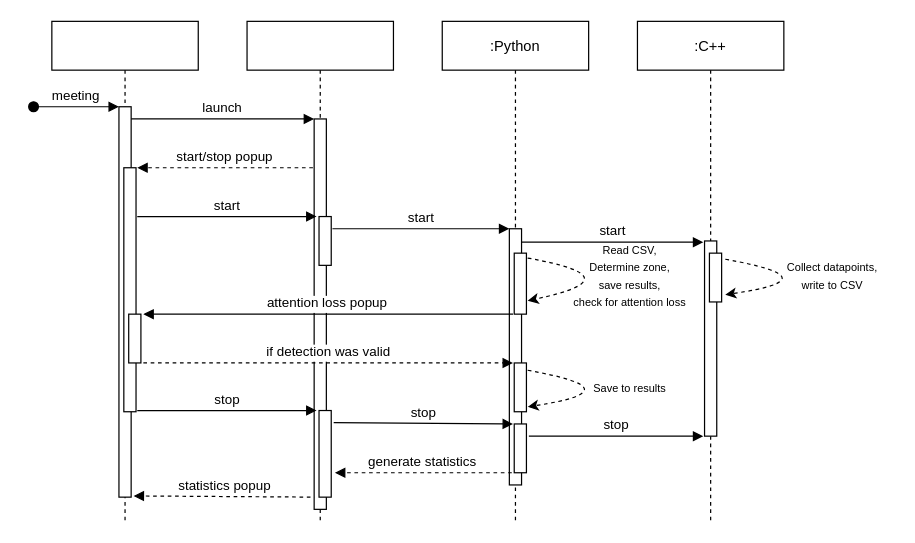
Some shapes in this 915 by 543 pixel diagram are drawn without their labels. The box of each missing label's shape, as (x1, y1, x2, y2) in pixels:
:Application: (246, 20, 393, 522)
:User: (51, 20, 198, 522)
